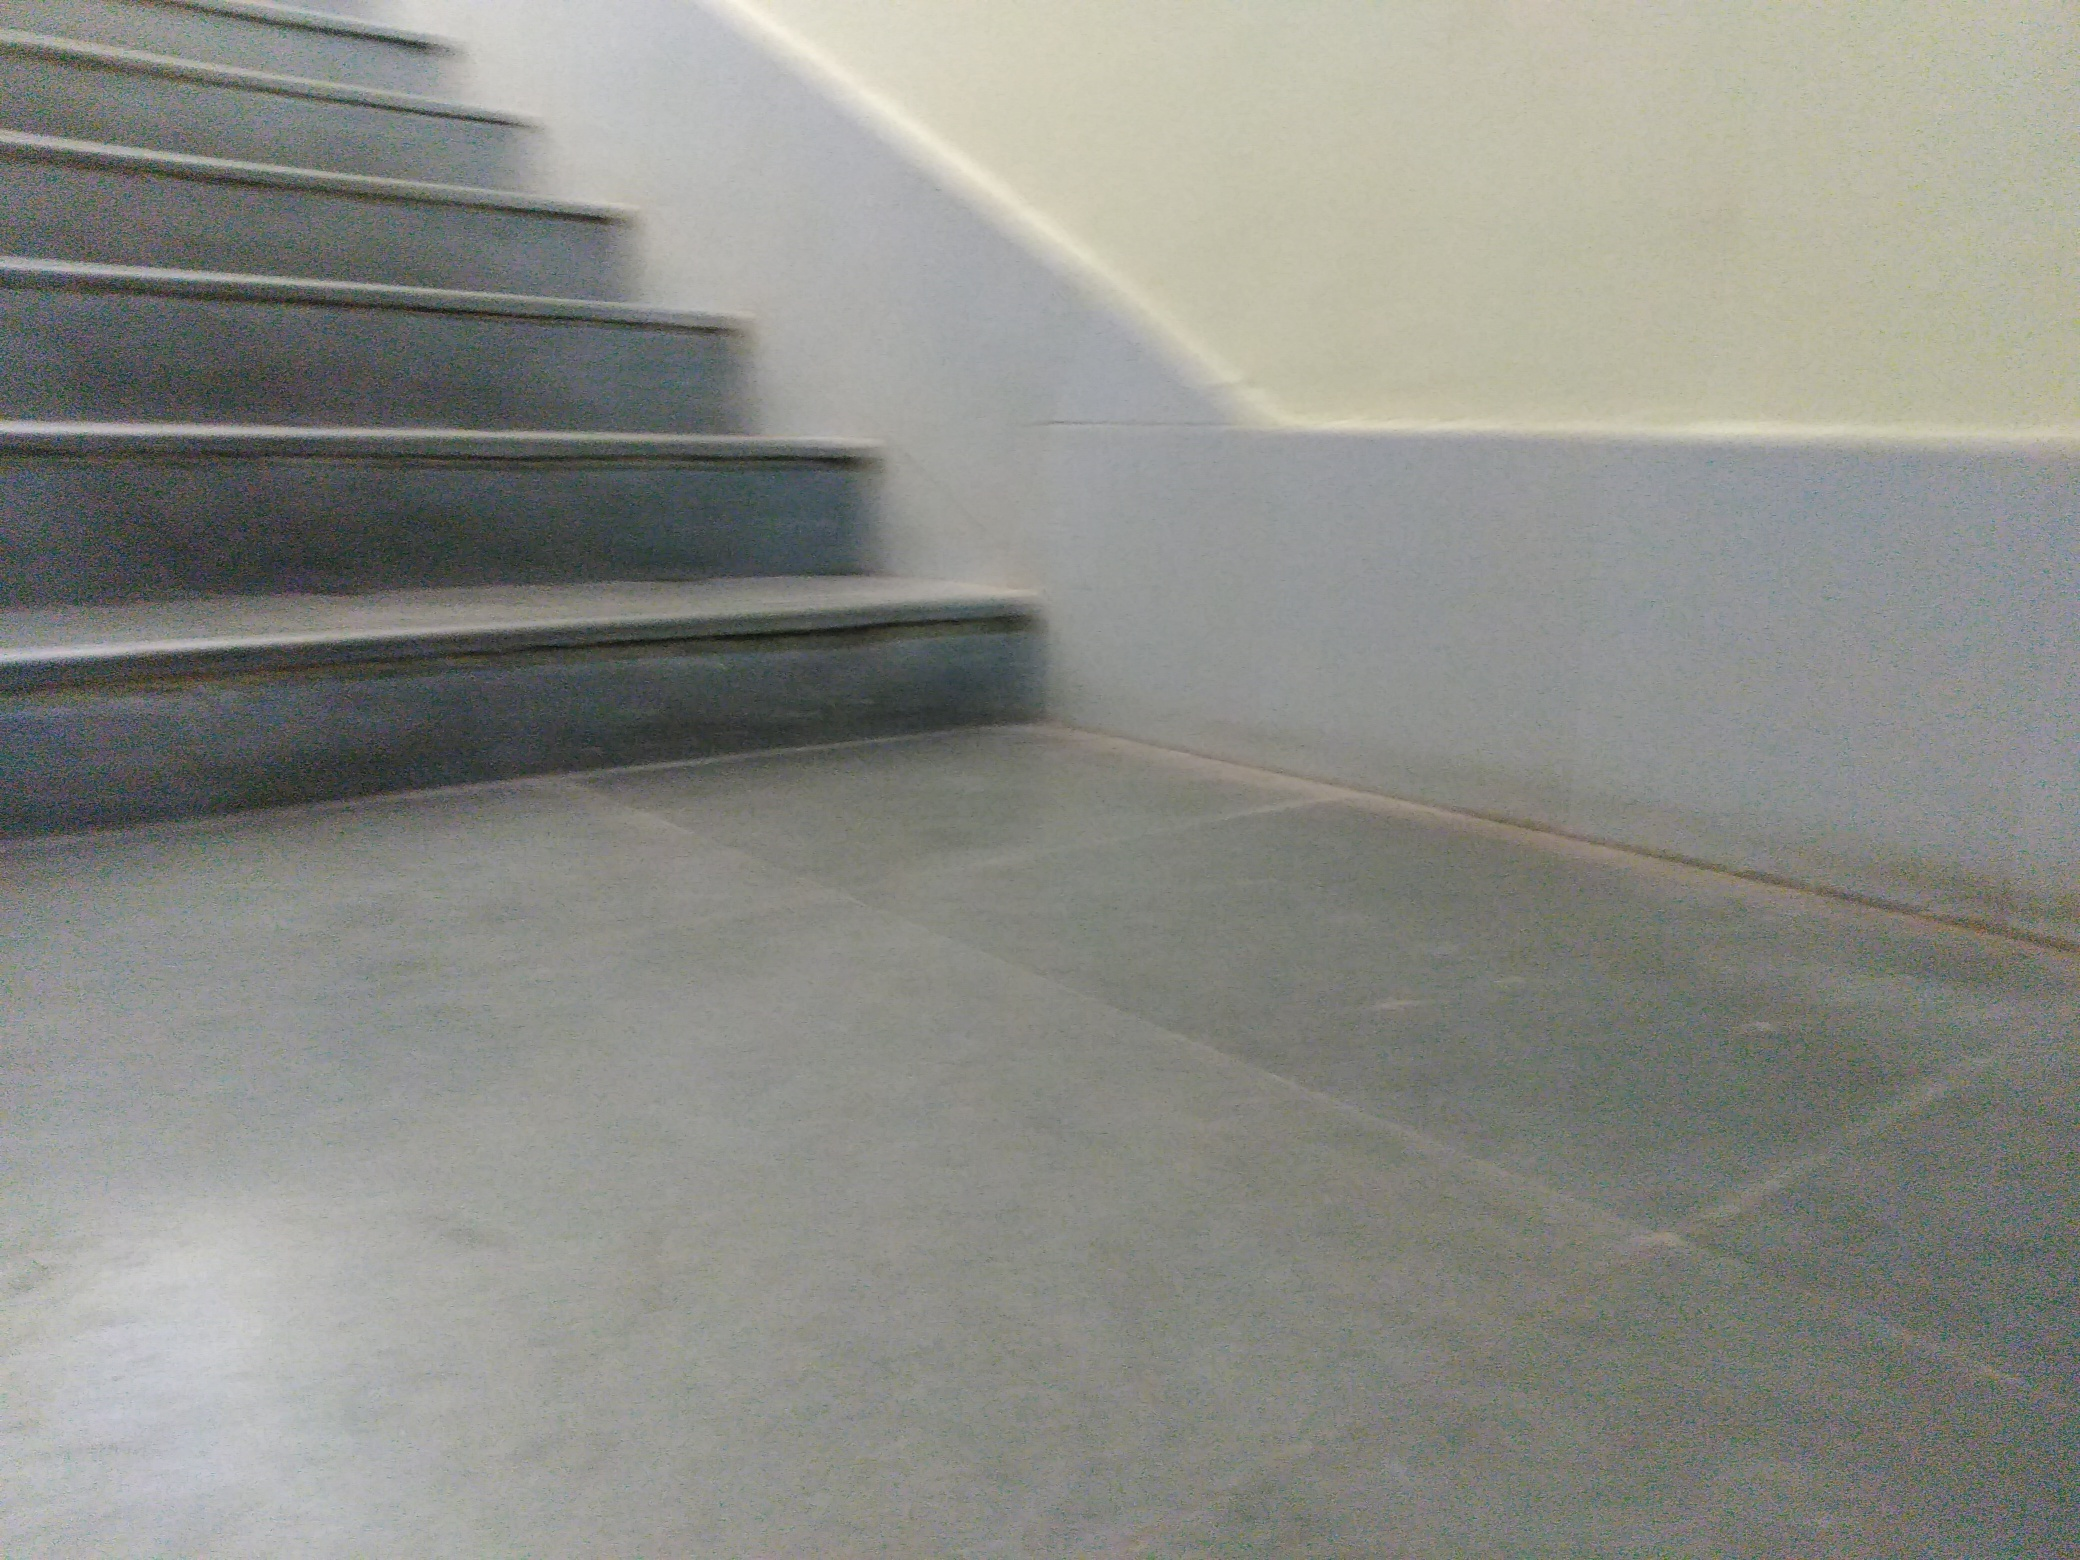stairs_up: (5, 11, 1042, 795)
